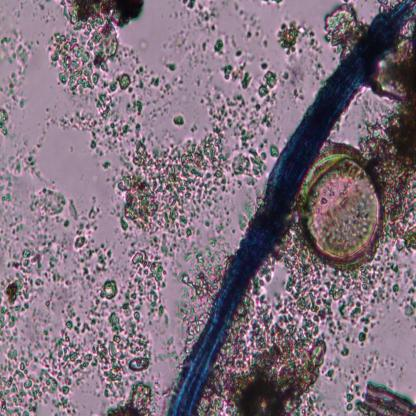Background material: (0, 302, 124, 416), (114, 126, 229, 238), (331, 252, 416, 353), (231, 329, 329, 416), (49, 0, 141, 91), (121, 237, 180, 371), (177, 233, 230, 340), (371, 147, 416, 259), (355, 99, 416, 158), (272, 274, 333, 330), (0, 26, 39, 113), (56, 108, 140, 148), (206, 89, 273, 135), (369, 47, 416, 100), (23, 103, 57, 176), (228, 130, 270, 189), (318, 3, 364, 54), (5, 230, 55, 274), (110, 380, 160, 416), (277, 232, 320, 273), (78, 241, 118, 285), (72, 195, 101, 253), (96, 74, 132, 118), (200, 371, 235, 416), (44, 228, 71, 282), (234, 300, 271, 336), (0, 148, 24, 200), (220, 340, 255, 374), (29, 186, 65, 219), (344, 363, 366, 414), (274, 21, 301, 59), (184, 0, 216, 31), (234, 4, 261, 38), (223, 62, 254, 91), (3, 272, 24, 305), (251, 264, 272, 297), (298, 25, 320, 56), (238, 195, 260, 226), (300, 389, 323, 416), (257, 71, 279, 98), (52, 270, 82, 288), (115, 44, 140, 64), (309, 58, 329, 81), (67, 194, 80, 228), (124, 94, 145, 115), (323, 361, 342, 382), (280, 67, 302, 84), (0, 109, 12, 140), (147, 103, 170, 119), (9, 209, 25, 232), (90, 140, 107, 160), (22, 276, 35, 301), (134, 66, 147, 90), (98, 280, 115, 298), (33, 307, 49, 324), (0, 358, 15, 375), (6, 344, 19, 362), (291, 86, 305, 102), (10, 303, 29, 314), (368, 348, 380, 365), (160, 84, 174, 98), (149, 74, 162, 89), (171, 114, 187, 126), (6, 312, 18, 328), (216, 40, 227, 57), (14, 1, 24, 18), (214, 223, 228, 235), (165, 60, 178, 71), (174, 78, 184, 92), (270, 144, 280, 158), (262, 0, 281, 7), (199, 40, 209, 52), (261, 34, 269, 49), (21, 315, 30, 328), (100, 161, 113, 170), (46, 292, 53, 308), (362, 364, 372, 375), (118, 284, 124, 302), (0, 329, 7, 344), (0, 315, 7, 330), (37, 0, 46, 10), (260, 61, 270, 70), (141, 370, 150, 380), (233, 50, 244, 58), (35, 277, 44, 286), (0, 306, 9, 315), (188, 124, 198, 132), (9, 336, 19, 344), (4, 324, 10, 336), (335, 122, 341, 134), (329, 276, 338, 284), (0, 225, 4, 242), (0, 279, 6, 290), (398, 367, 404, 378), (388, 378, 394, 389), (36, 286, 44, 294), (6, 274, 14, 282), (199, 96, 206, 105), (129, 375, 138, 382), (412, 345, 416, 359), (13, 327, 19, 336), (0, 291, 4, 304), (52, 302, 57, 312), (196, 78, 201, 88), (390, 359, 395, 369), (320, 401, 325, 411), (64, 221, 70, 229), (374, 361, 378, 373), (260, 296, 266, 304), (20, 336, 27, 342), (324, 282, 330, 289), (30, 295, 35, 303), (356, 124, 362, 130), (22, 328, 27, 335), (381, 360, 386, 367), (364, 354, 368, 362), (335, 411, 341, 416), (385, 359, 389, 366), (57, 296, 62, 301), (323, 410, 328, 415), (364, 374, 368, 380), (355, 354, 359, 360), (34, 294, 38, 299), (328, 413, 334, 416), (408, 386, 413, 389)
Cotton: (164, 32, 406, 416)
Diatom: (302, 146, 386, 272), (361, 381, 416, 416), (242, 383, 283, 416)
